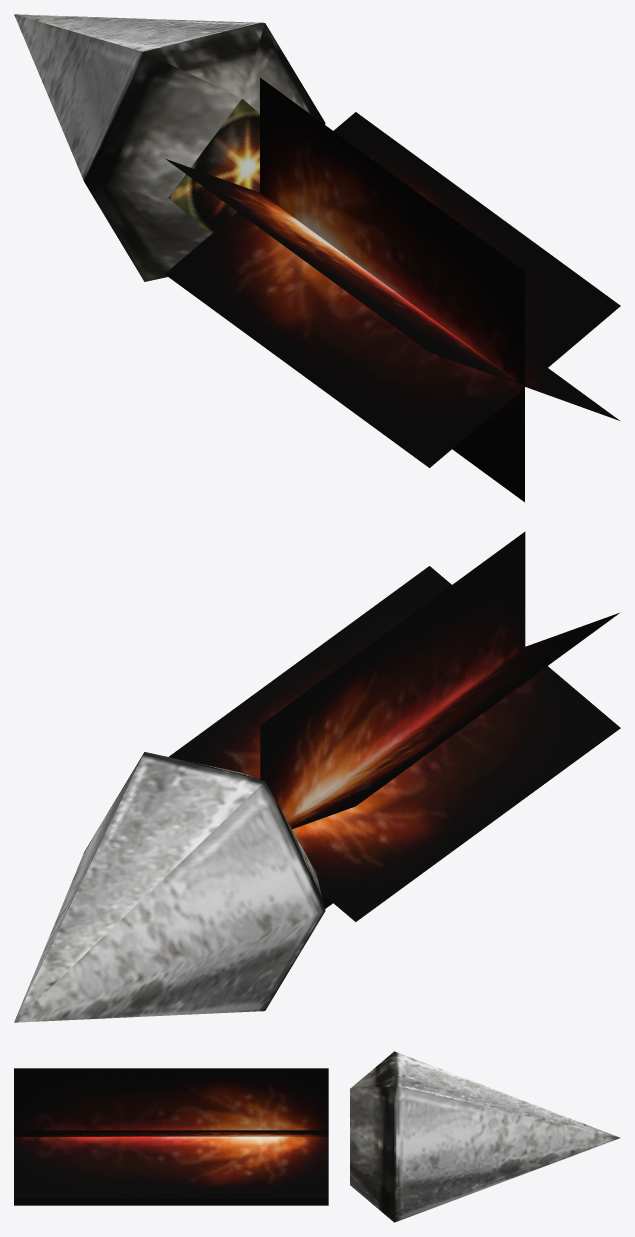
Rendered from original_rocket.obj.
3 renders of one model, top to bottom at view 1: azimuth 30°, elevation 25°; view 2: azimuth 150°, elevation 25°; view 3: azimuth 270°, elevation 25°, orthographic. The views are drawn at different scales.
Visible parts, largest first — view 1: max_plane, RPG_; view 2: max_plane, RPG_; view 3: max_plane, RPG_.
Boxes of the visible parts, x1=… form: max_plane: x1=164, y1=77, x2=620, y2=502; RPG_: x1=14, y1=14, x2=325, y2=281; max_plane: x1=169, y1=531, x2=620, y2=921; RPG_: x1=14, y1=752, x2=325, y2=1022; max_plane: x1=14, y1=1068, x2=328, y2=1205; RPG_: x1=350, y1=1051, x2=620, y2=1222.
Size of the model in its own units: 0.5461 by 0.5 by 2.
4 materials, 4 textured.
